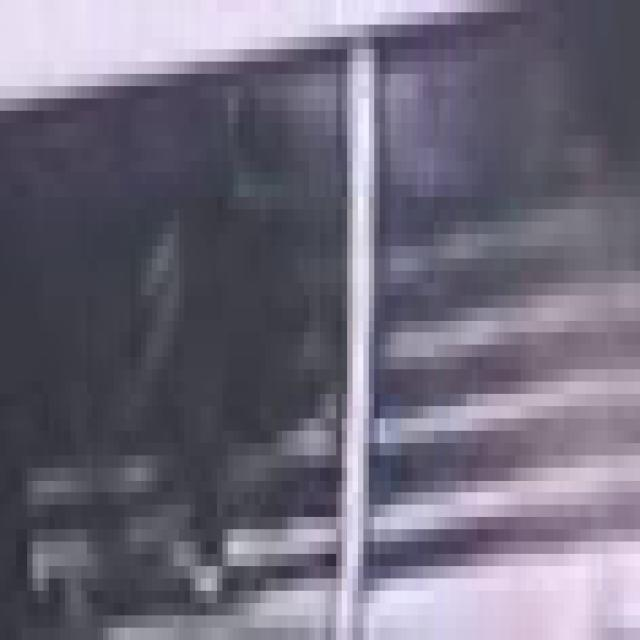stick: (317, 28, 389, 640)
